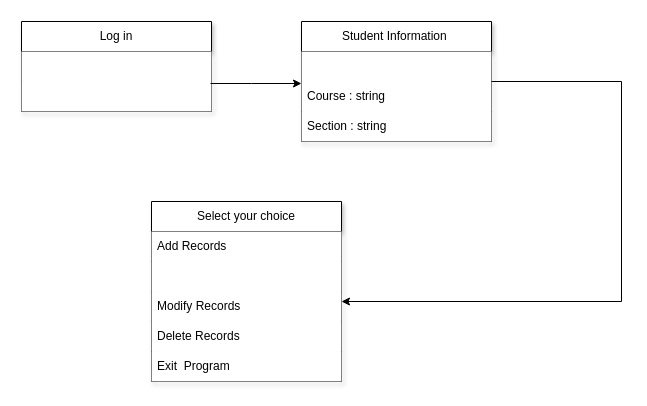
The diagram is 647 pixels wide and 406 high, and some of its shapes have lost their labels. Each missing label, with the centre of its shape:
"List Records" belongs at point 246,276.
"Name : string" belongs at point 396,66.
"Password :" belongs at point 116,96.
"Username :" belongs at point 116,66.
